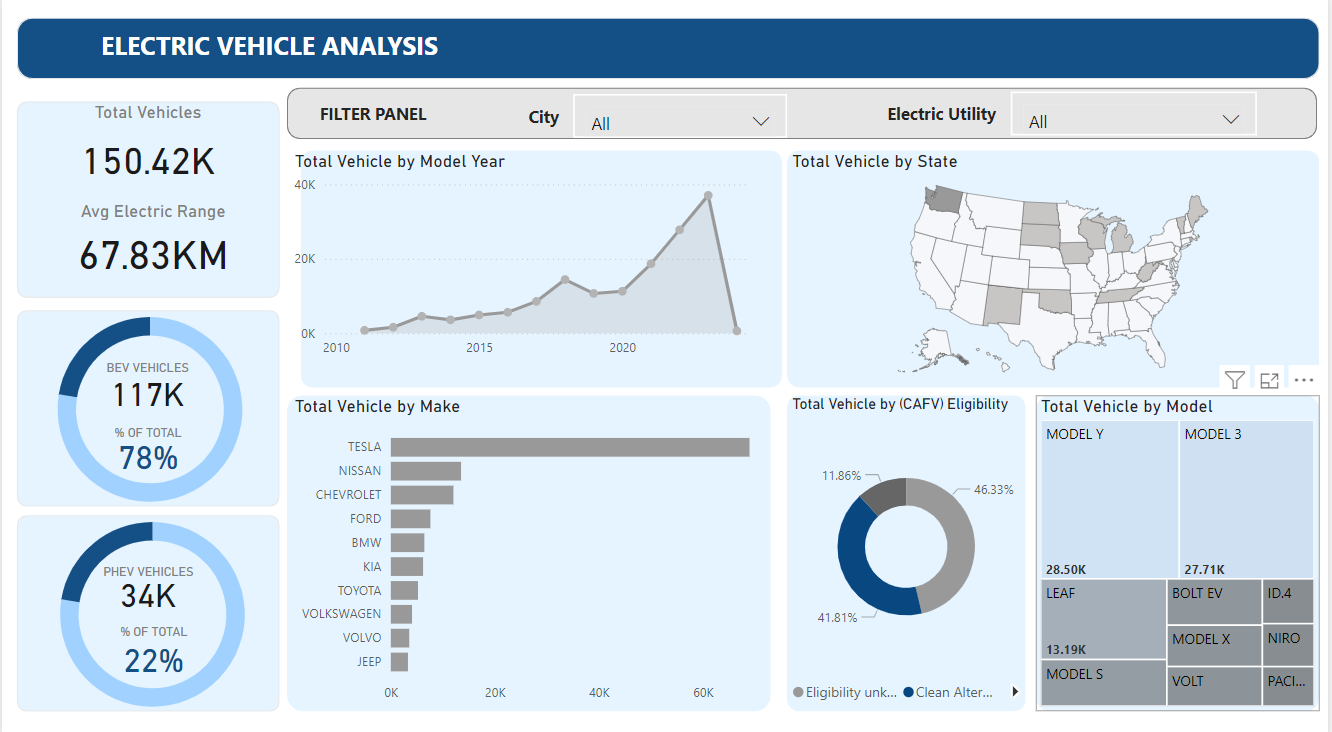

What the dashboard file says about the page in this screenshot:
{"tool":"powerbi","page":{"name":"Page 1","canvas":[1280,720],"ordinal":0},"visuals":[{"type":"shape","box":[14.5,22.9,1257.1,59.1],"z":0},{"type":"textbox","box":[90.5,29,372.8,42.2],"z":1000},{"type":"shape","box":[14.5,103.8,253.4,189.4],"z":2000},{"type":"card","title":"Total Vehicles","fields":{"Values":["Measure List.Total Vehicle"]},"box":[7.2,103.8,267.8,92.9],"z":3000},{"type":"card","title":"Avg Electric Range","fields":{"Values":["Electric_Vehicle_Population_Data.Avg Electric Range"]},"box":[14.5,199.1,263,84.5],"z":4000},{"type":"shape","box":[14.5,305.2,253.4,189.4],"z":5000},{"type":"shape","box":[14.5,503.1,253.4,189.4],"z":6000},{"type":"donutChart","fields":{"Category":["Electric_Vehicle_Population_Data.Electric Vehicle Type"],"Y":["Measure List.Total Vehicle"]},"box":[0,284.7,285.9,232.8],"z":7000},{"type":"card","title":"BEV VEHICLES","fields":{"Values":["Measure List.BEV Vehicles"]},"box":[82,353.5,117,53.1],"z":8000},{"type":"card","title":"% OF TOTAL","fields":{"Values":["Measure List.% BEV OF Total"]},"box":[89.3,416.2,103.8,48.3],"z":9000},{"type":"donutChart","fields":{"Category":["Electric_Vehicle_Population_Data.Electric Vehicle Type"],"Y":["Measure List.Total Vehicle"]},"box":[2.4,482.6,285.9,232.8],"z":10000},{"type":"card","title":"PHEV VEHICLES","fields":{"Values":["Measure List.PHEV VEHICLES"]},"box":[63.9,550.1,154.4,48.3],"z":11000},{"type":"card","title":"% OF TOTAL","fields":{"Values":["Measure List.% OF TOTAL"]},"box":[91.7,608,109.8,56.7],"z":12000},{"type":"shape","box":[288.3,150.8,464.5,229.2],"z":13000},{"type":"shape","box":[757.6,150.8,513.9,229.2],"z":14000},{"type":"lineChart","fields":{"Category":["Electric_Vehicle_Population_Data.Model Year"],"Y":["Measure List.Total Vehicle"]},"box":[277.5,150.8,450,208.7],"z":15000},{"type":"shapeMap","fields":{"Value":["Measure List.Total Vehicle"],"Category":["Electric_Vehicle_Population_Data.State"]},"box":[757.6,150.8,513.9,229.2],"z":16000},{"type":"shape","box":[275.1,387.3,466.9,305.2],"z":17000},{"type":"barChart","fields":{"Y":["Measure List.Total Vehicle"],"Category":["Electric_Vehicle_Population_Data.Make"]},"box":[277.5,387.3,464.5,305.2],"z":18000},{"type":"shape","box":[757.6,387.3,230.4,305.2],"z":19000},{"type":"donutChart","title":"Total Vehicle by  (CAFV) Eligibility","fields":{"Category":["Electric_Vehicle_Population_Data.Clean Alternative Fuel Vehicle (CAFV) Eligibility"],"Y":["Measure List.Total Vehicle"]},"box":[757.6,387.3,230.4,305.2],"z":20000},{"type":"shape","box":[997.7,387.3,273.9,305.2],"z":21000},{"type":"treemap","fields":{"Group":["Electric_Vehicle_Population_Data.Model"],"Values":["Measure List.Total Vehicle"]},"box":[997.7,387.3,273.9,305.2],"z":22000},{"type":"shape","box":[275.1,90.5,994.1,49.5],"z":23000},{"type":"textbox","box":[301.6,98.9,129.1,33.8],"z":24000},{"type":"slicer","fields":{"Values":["Electric_Vehicle_Population_Data.City"]},"box":[551.3,96.5,206.3,42.2],"z":25000},{"type":"textbox","box":[503.1,102.5,51.9,37.4],"z":26000},{"type":"slicer","fields":{"Values":["Electric_Vehicle_Population_Data.Electric Utility"]},"box":[973.6,94.1,237.7,42.2],"z":27000},{"type":"textbox","box":[849.3,98.9,124.3,37.4],"z":28000}]}

Visuals, with their boxes in screenshot pixels (x1, y1, x2, y2), scaled from the page's 1280x720 canvas onto the 1332x732 screenshot:
shape: (x1=15, y1=23, x2=1323, y2=83)
textbox: (x1=94, y1=29, x2=482, y2=72)
shape: (x1=15, y1=106, x2=279, y2=298)
"Total Vehicles" card: (x1=7, y1=106, x2=286, y2=200)
"Avg Electric Range" card: (x1=15, y1=202, x2=289, y2=288)
shape: (x1=15, y1=310, x2=279, y2=503)
shape: (x1=15, y1=511, x2=279, y2=704)
donutChart - Electric_Vehicle_Population_Data.Electric Vehicle Type x Measure List.Total Vehicle: (x1=0, y1=289, x2=298, y2=526)
"BEV VEHICLES" card: (x1=85, y1=359, x2=207, y2=413)
"% OF TOTAL" card: (x1=93, y1=423, x2=201, y2=472)
donutChart - Electric_Vehicle_Population_Data.Electric Vehicle Type x Measure List.Total Vehicle: (x1=2, y1=491, x2=300, y2=727)
"PHEV VEHICLES" card: (x1=66, y1=559, x2=227, y2=608)
"% OF TOTAL" card: (x1=95, y1=618, x2=210, y2=676)
shape: (x1=300, y1=153, x2=783, y2=386)
shape: (x1=788, y1=153, x2=1323, y2=386)
lineChart - Electric_Vehicle_Population_Data.Model Year x Measure List.Total Vehicle: (x1=289, y1=153, x2=757, y2=365)
shapeMap - Measure List.Total Vehicle x Electric_Vehicle_Population_Data.State: (x1=788, y1=153, x2=1323, y2=386)
shape: (x1=286, y1=394, x2=772, y2=704)
barChart - Measure List.Total Vehicle x Electric_Vehicle_Population_Data.Make: (x1=289, y1=394, x2=772, y2=704)
shape: (x1=788, y1=394, x2=1028, y2=704)
"Total Vehicle by  (CAFV) Eligibility" donutChart: (x1=788, y1=394, x2=1028, y2=704)
shape: (x1=1038, y1=394, x2=1323, y2=704)
treemap - Electric_Vehicle_Population_Data.Model x Measure List.Total Vehicle: (x1=1038, y1=394, x2=1323, y2=704)
shape: (x1=286, y1=92, x2=1321, y2=142)
textbox: (x1=314, y1=101, x2=448, y2=135)
slicer - Electric_Vehicle_Population_Data.City: (x1=574, y1=98, x2=788, y2=141)
textbox: (x1=524, y1=104, x2=578, y2=142)
slicer - Electric_Vehicle_Population_Data.Electric Utility: (x1=1013, y1=96, x2=1261, y2=139)
textbox: (x1=884, y1=101, x2=1013, y2=139)
